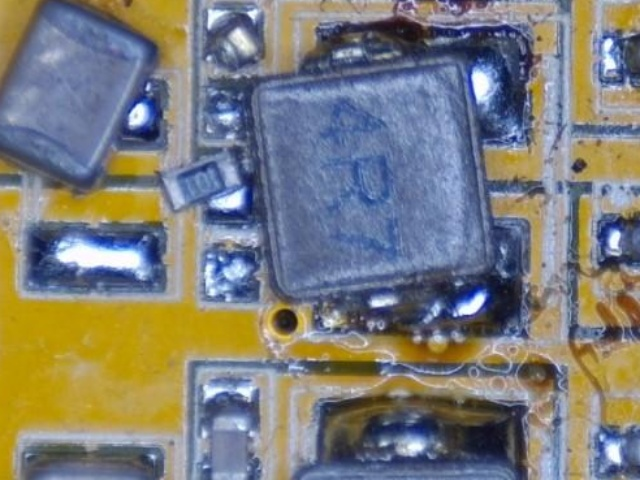pcb_defect: (248, 20, 532, 336), (0, 0, 165, 193), (155, 147, 254, 221)
